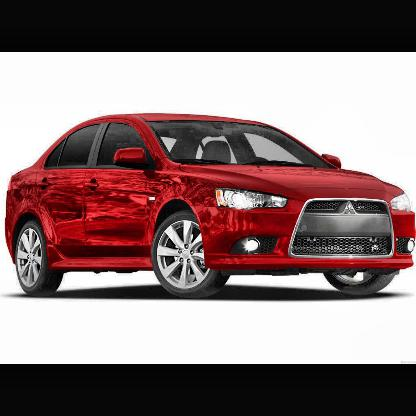Mitsubishi Lancer Sedan 2012: (5, 113, 416, 301)
